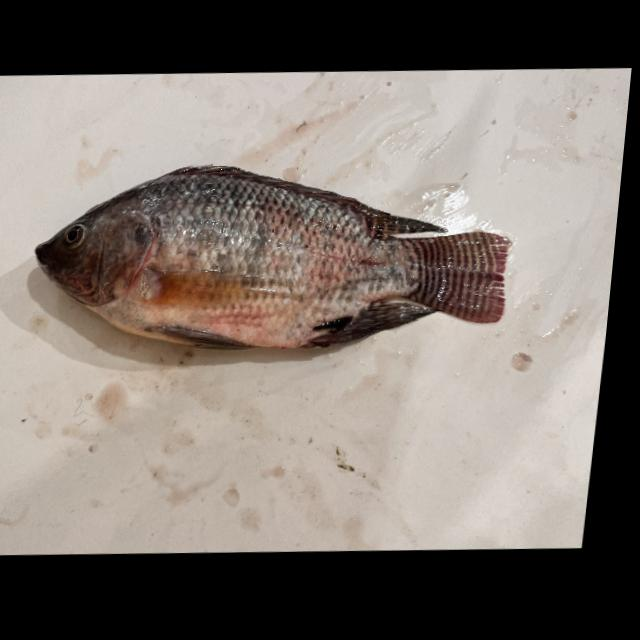Tilapia: (22, 150, 521, 364)
